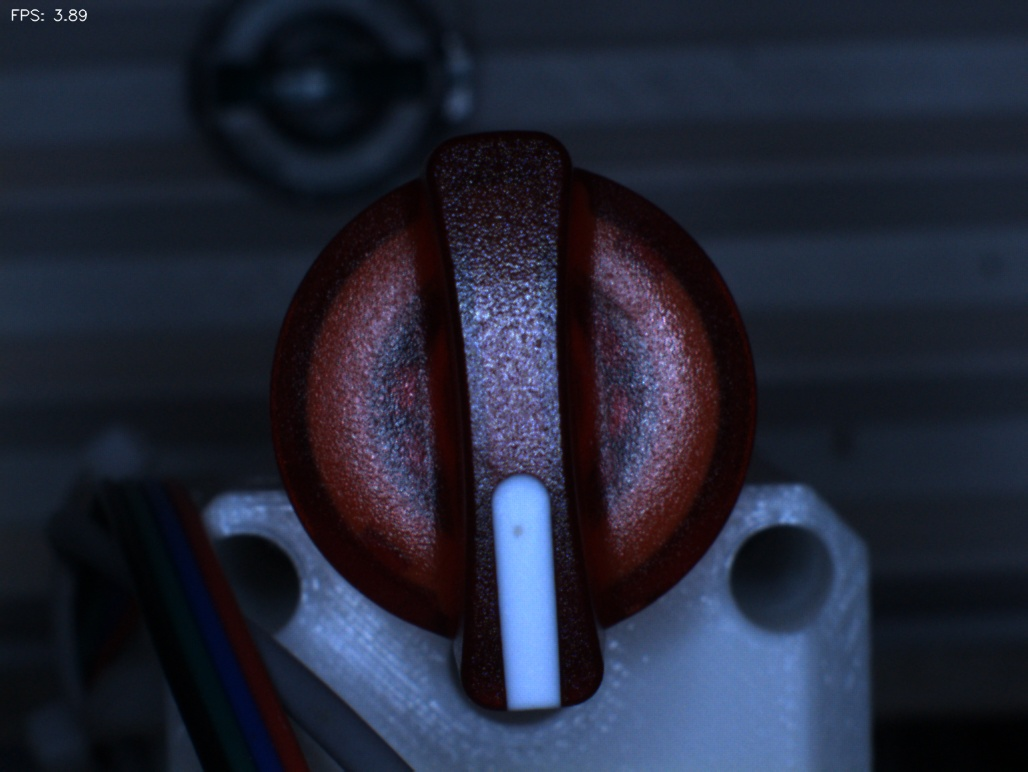PointNoir: (483, 501, 562, 568)
